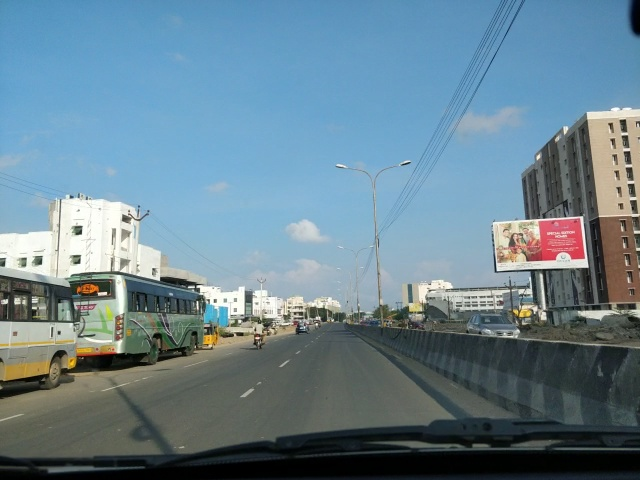auto: (190, 322, 223, 349)
bus: (69, 271, 211, 371), (0, 266, 83, 399)
car: (466, 311, 520, 357), (294, 319, 310, 334)
motorbike: (250, 318, 269, 346)
